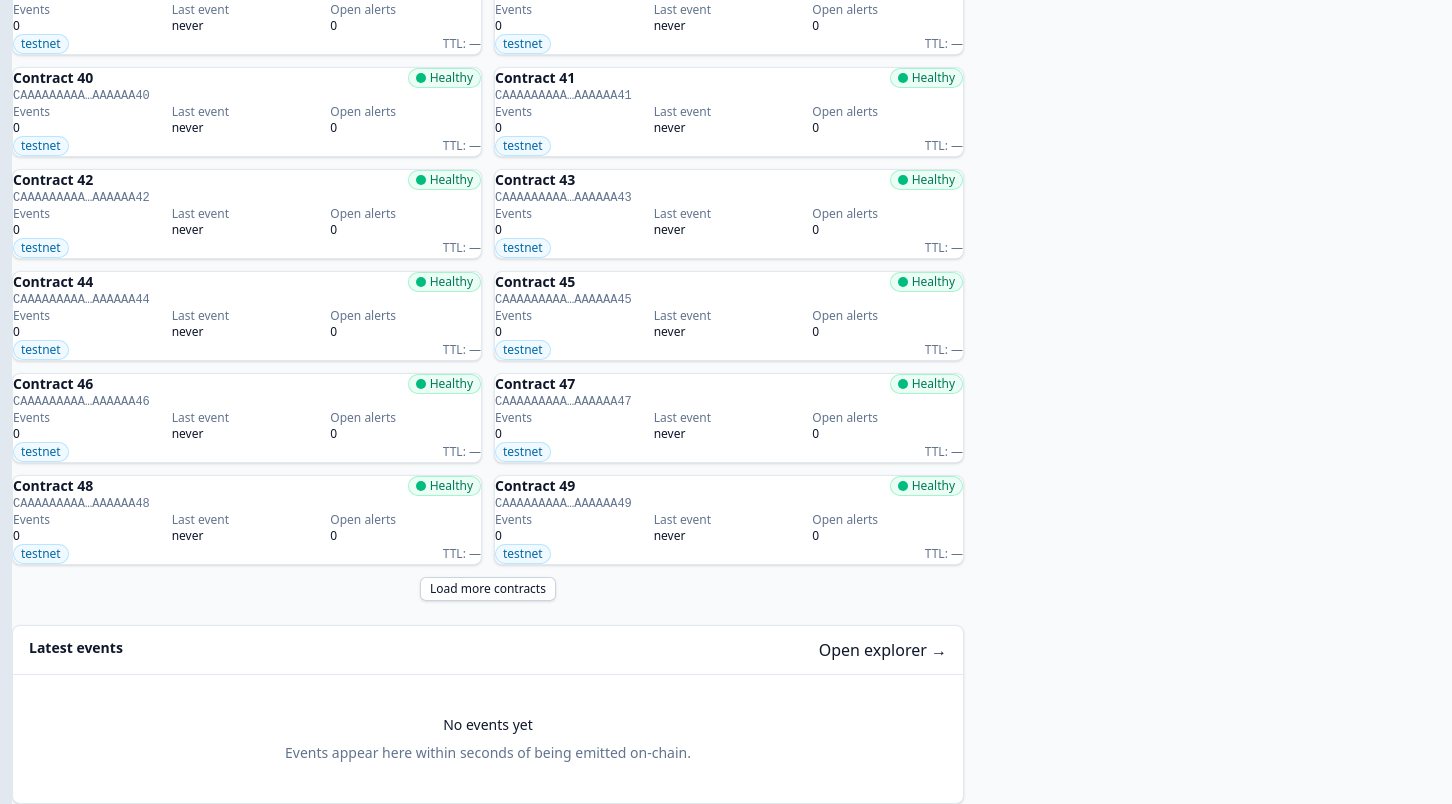
Overview contract pagination › loads further pages with the cursor and counts every contract
(page scrolled)
Expected: the text "Contract 49" is shown, [495,476,575,495]
Expected: the text "Contract 50" is not shown
What coordinates should you click on to do the following:
click the button "Load more contracts"
I would click on:
 (488, 589)
Its box is [420,577,556,601].
(page scrolled)
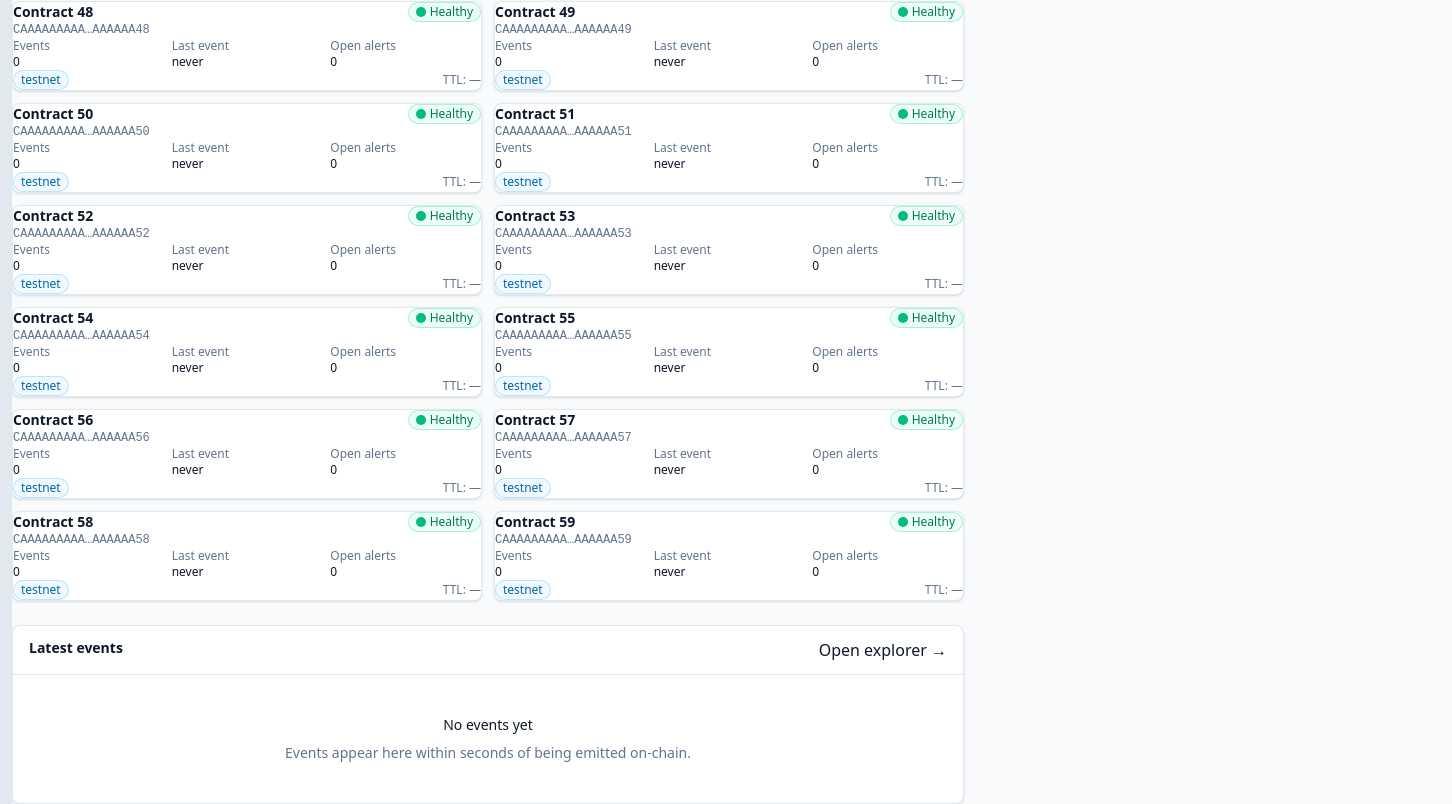
Result: the text "Contract 59" is shown at [495,512,575,531]
Result: the button "Load more contracts" is gone
